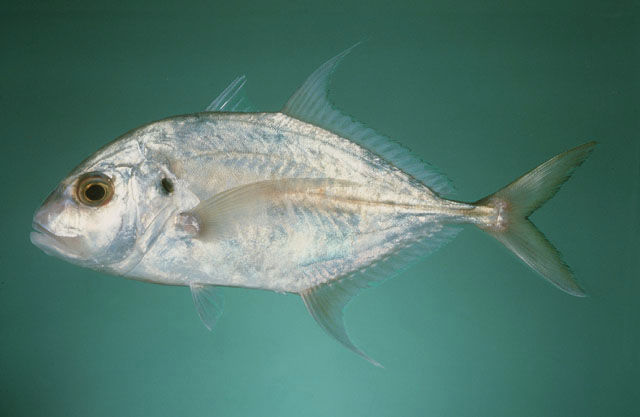fish: (30, 42, 594, 370)
